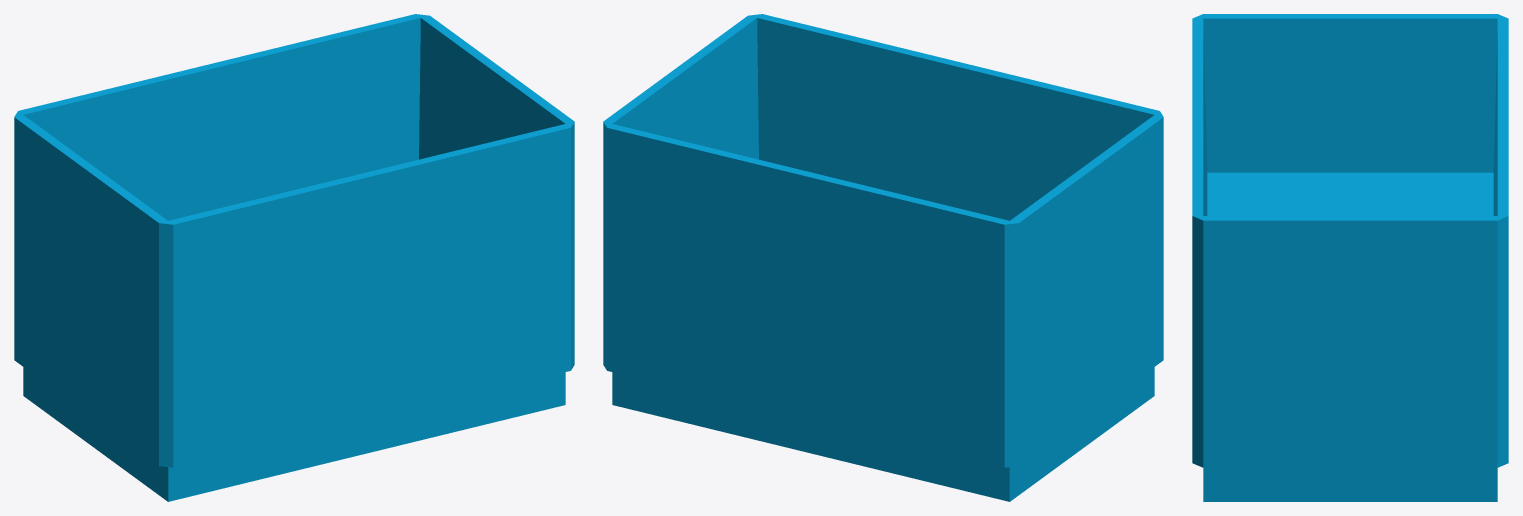
The model's file is Shop_Fridge_02_Body_Lod1.fbx.
3 views of the same model, side by side, from view 1: azimuth 30°, elevation 25°; view 2: azimuth 150°, elevation 25°; view 3: azimuth 270°, elevation 25° (orthographic).
Visible parts, largest first — view 1: Shop_Fridge_02_Body_Lod1; view 2: Shop_Fridge_02_Body_Lod1; view 3: Shop_Fridge_02_Body_Lod1.
Boxes of the visible parts, x1,y1,x2,y2 form: Shop_Fridge_02_Body_Lod1: [14, 14, 574, 501]; Shop_Fridge_02_Body_Lod1: [603, 14, 1163, 501]; Shop_Fridge_02_Body_Lod1: [1192, 14, 1508, 501].
Size of the model in its own units: 137 by 88.82 by 89.
